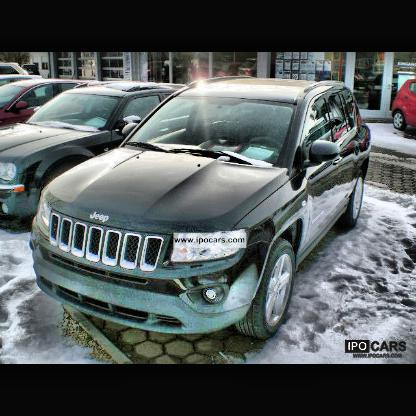Jeep Compass SUV 2012: (33, 78, 374, 343)
